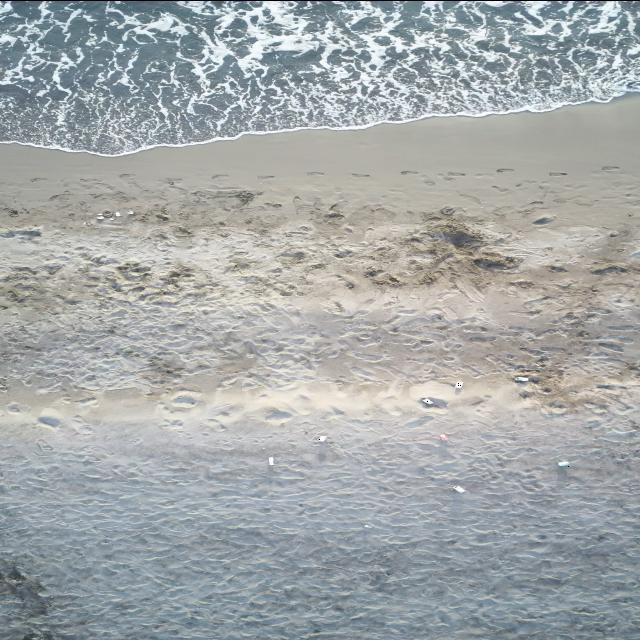Garbage: (420, 396, 447, 407), (452, 484, 464, 492), (420, 397, 433, 404), (313, 436, 327, 442), (515, 375, 527, 382), (557, 460, 568, 466), (438, 433, 447, 440), (455, 380, 462, 388), (96, 213, 103, 219), (267, 456, 272, 464), (115, 211, 120, 216), (127, 209, 132, 213)
